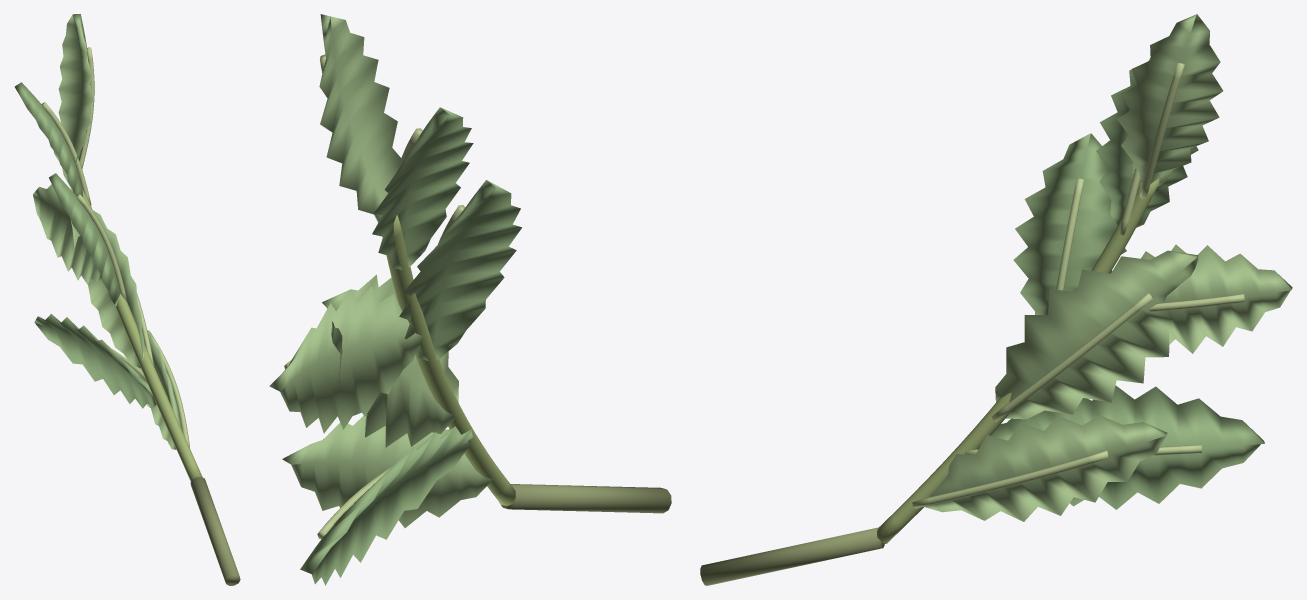
The model's file is side_herbseller_leaf_sprig.glb.
3 renders of one model, left to right at view 1: azimuth 30°, elevation 25°; view 2: azimuth 150°, elevation 25°; view 3: azimuth 270°, elevation 25°, orthographic. The views are drawn at different scales.
Visible parts, largest first — view 1: leaf_olive, leaf_green, vein, stem, anchor; view 2: leaf_olive, leaf_green, stem, anchor, vein; view 3: leaf_olive, leaf_green, vein, stem, anchor.
Part boxes in pixels (x1,y1,x2,y2): leaf_olive: (33,14,182,449); leaf_green: (14,82,156,408); vein: (41,47,189,447); stem: (72,189,202,481); anchor: (190,477,240,585); leaf_olive: (269,14,492,527); leaf_green: (300,107,521,585); stem: (382,215,515,505); anchor: (499,484,671,513); vein: (284,54,465,539); leaf_olive: (924,14,1292,521); leaf_green: (991,57,1264,509); vein: (912,62,1244,508); stem: (877,178,1159,543); anchor: (700,527,884,585).
Bounding box in the file's own units: 1.36 × 5.06 × 4.64.
